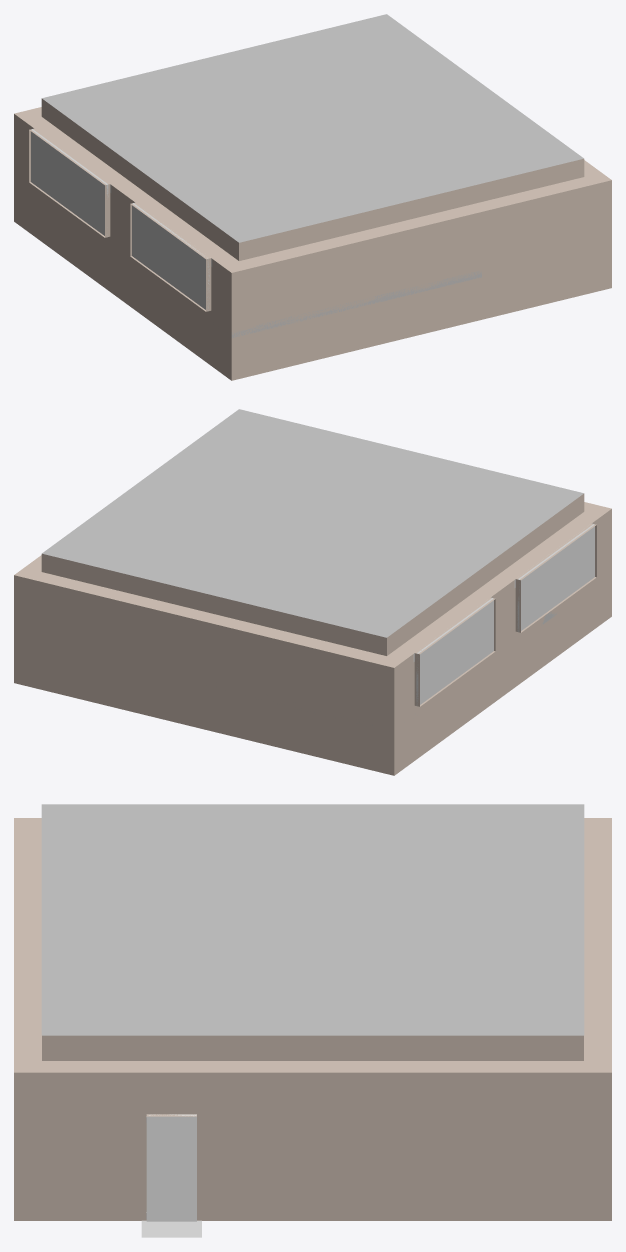
Rendered from LabRoom.fbx.
3 views of the same model, one above another, from view 1: azimuth 30°, elevation 25°; view 2: azimuth 150°, elevation 25°; view 3: azimuth 270°, elevation 25° (orthographic). The views are drawn at different scales.
Parts seen in each view (by area): view 1: Lab Room, Ceiling, Student Tables; view 2: Lab Room, Ceiling; view 3: Ceiling, Lab Room, Lab Door.
Part boxes in pixels (bbox=[...]): Lab Room: bbox=[14, 98, 611, 380]; Ceiling: bbox=[42, 14, 583, 242]; Student Tables: bbox=[231, 271, 481, 338]; Lab Room: bbox=[14, 493, 611, 775]; Ceiling: bbox=[42, 409, 583, 637]; Ceiling: bbox=[41, 804, 584, 1035]; Lab Room: bbox=[14, 818, 611, 1237]; Lab Door: bbox=[146, 1114, 196, 1221].
Size of the model in its own units: 11.64 by 3.42 by 10.69.
